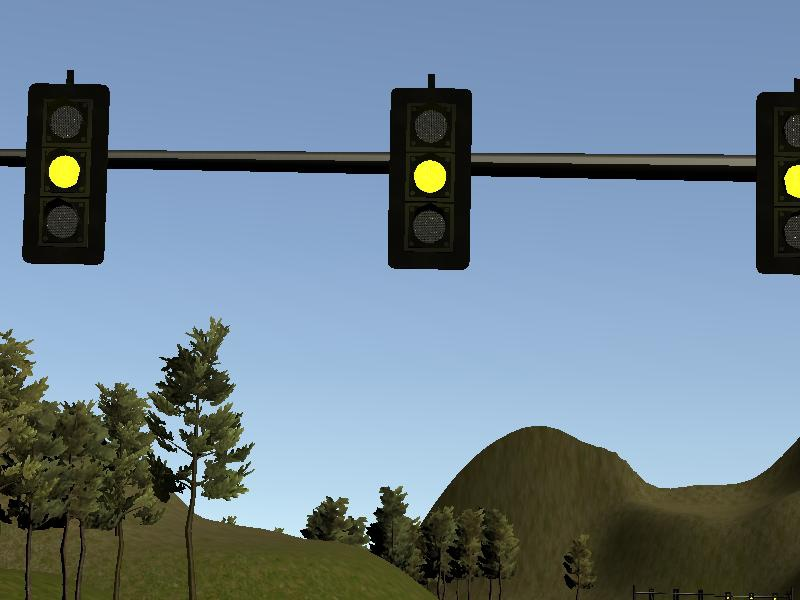yellow: (25, 83, 107, 264), (391, 85, 468, 270), (754, 93, 800, 276)
